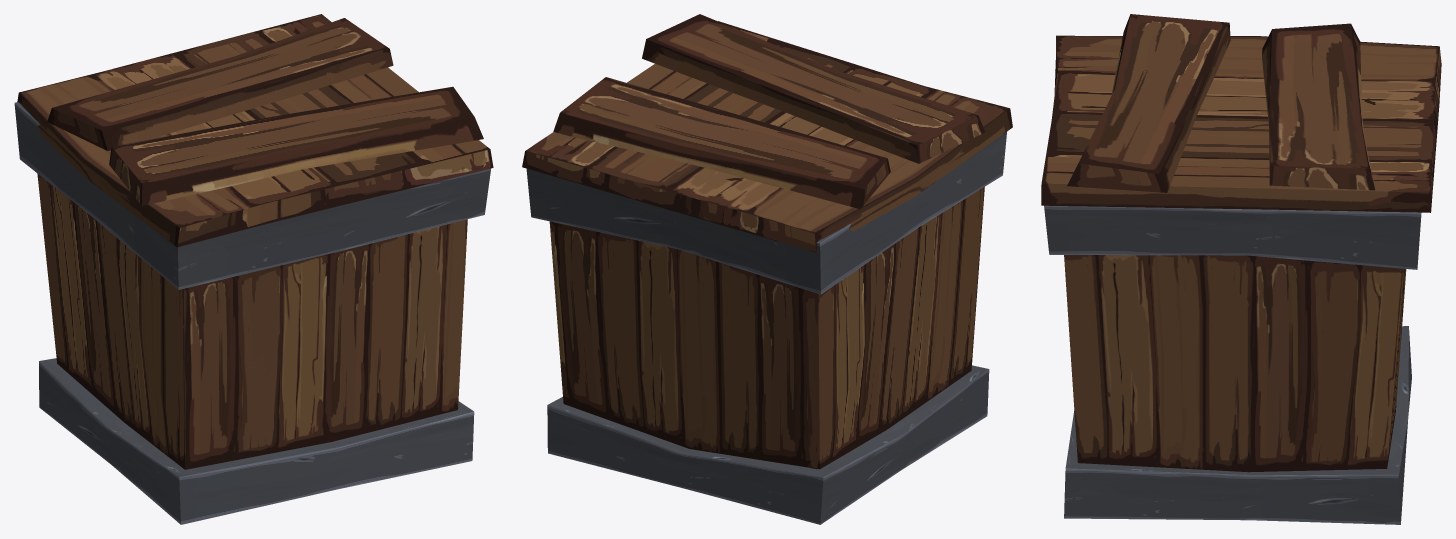
Rendered from SM_PROP_box_dungeon_04.fbx.
3 views of the same model, side by side, from view 1: azimuth 30°, elevation 25°; view 2: azimuth 150°, elevation 25°; view 3: azimuth 270°, elevation 25° (orthographic). The views are drawn at different scales.
Visible parts, largest first — view 1: SM_PROP_box_dungeon_04; view 2: SM_PROP_box_dungeon_04; view 3: SM_PROP_box_dungeon_04.
Part boxes in pixels (x1,y1,x2,y2): SM_PROP_box_dungeon_04: (14,14,493,524); SM_PROP_box_dungeon_04: (522,14,1012,524); SM_PROP_box_dungeon_04: (1041,14,1441,524).
Size of the model in its own units: 96.88 by 95.04 by 95.68.
